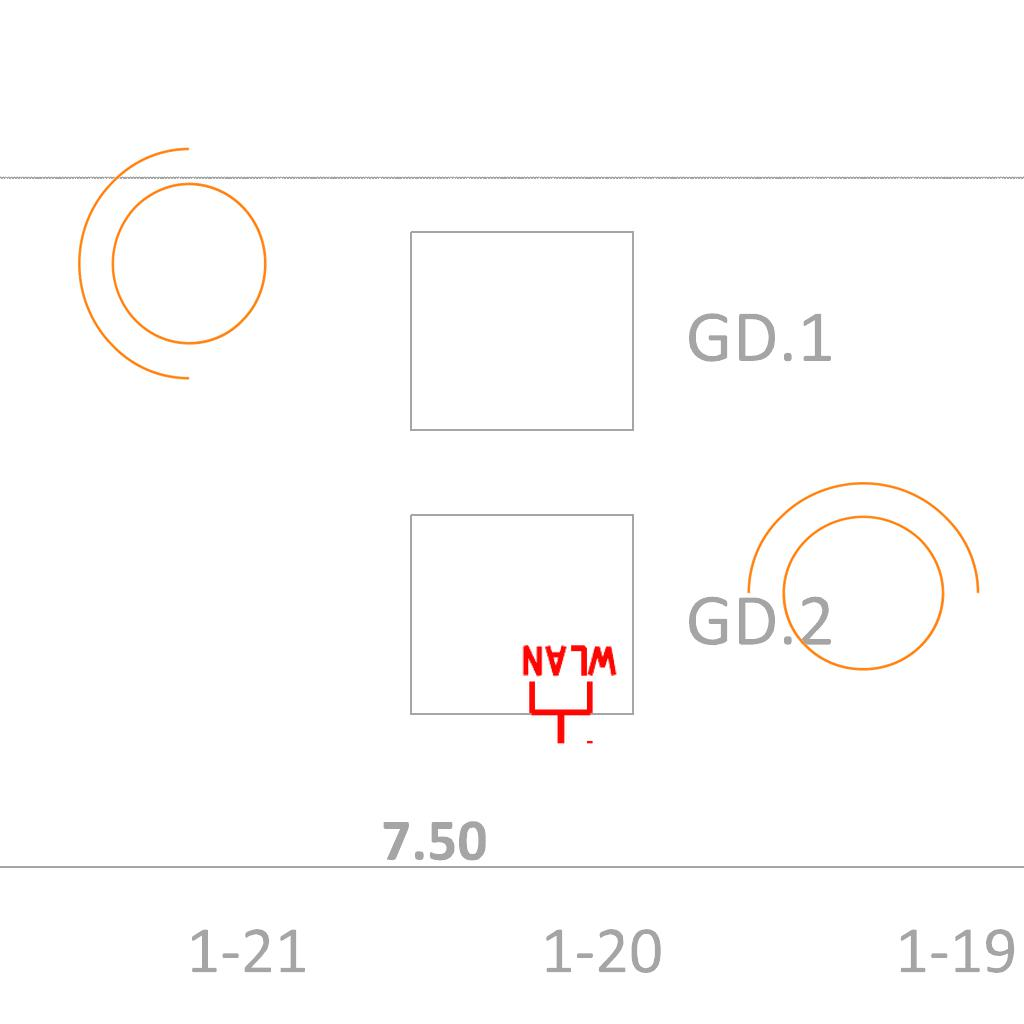Scheinwerfer_fuer_Alarmbeleuchtung: (725, 471, 989, 696), (67, 138, 292, 402)
WLAN: (518, 643, 622, 748)
